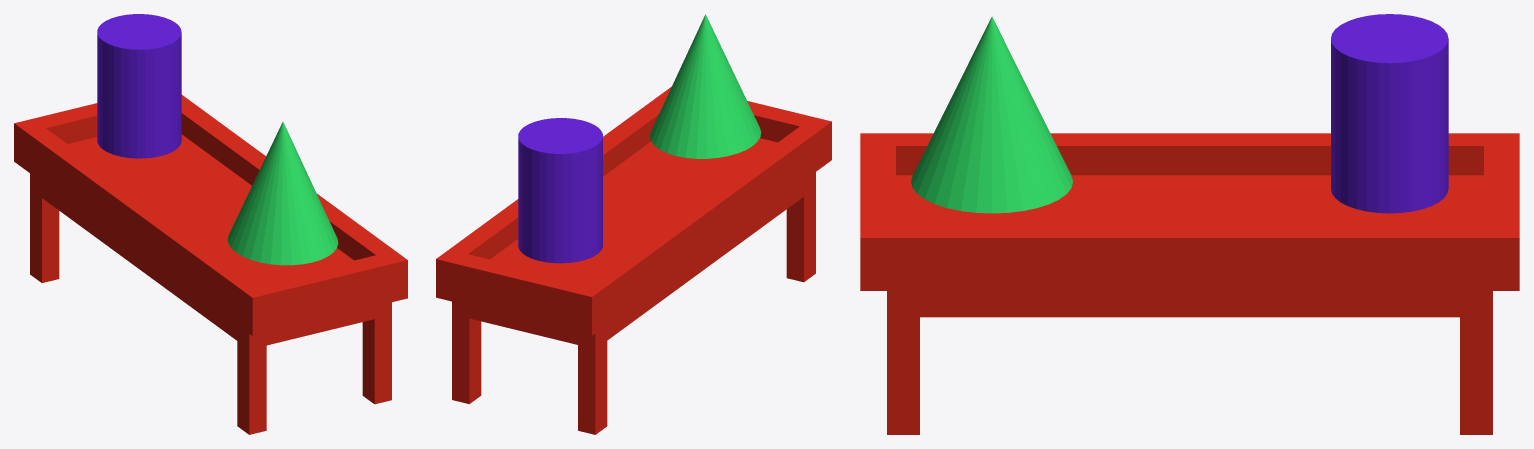
File: table.glb
3 renders of one model, left to right at view 1: azimuth 30°, elevation 25°; view 2: azimuth 150°, elevation 25°; view 3: azimuth 270°, elevation 25°, orthographic. The views are drawn at different scales.
Parts seen in each view (by area): view 1: Cube, Cylinder, Cone; view 2: Cube, Cylinder, Cone; view 3: Cube, Cylinder, Cone.
Part boxes in pixels (x1=…): Cube: x1=14, y1=95, x2=407, y2=434; Cylinder: x1=97, y1=14, x2=181, y2=158; Cone: x1=227, y1=122, x2=338, y2=265; Cube: x1=436, y1=86, x2=831, y2=434; Cylinder: x1=518, y1=118, x2=602, y2=263; Cone: x1=650, y1=14, x2=761, y2=158; Cube: x1=860, y1=133, x2=1519, y2=434; Cylinder: x1=1331, y1=14, x2=1448, y2=213; Cone: x1=911, y1=16, x2=1072, y2=213.
Size of what is drawn, in the model's own units: 4.42 by 7.31 by 11.78.
